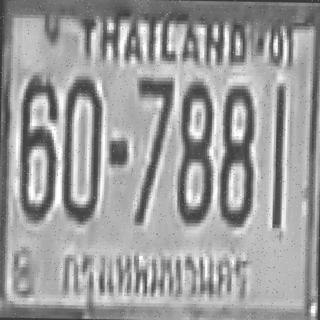N00: (60, 72, 100, 221)
N01: (270, 83, 284, 224)
N06: (17, 73, 57, 219)
N07: (134, 74, 172, 223), (135, 76, 172, 177)
N08: (175, 80, 212, 222), (217, 82, 252, 224)
P04: (56, 238, 252, 310)
